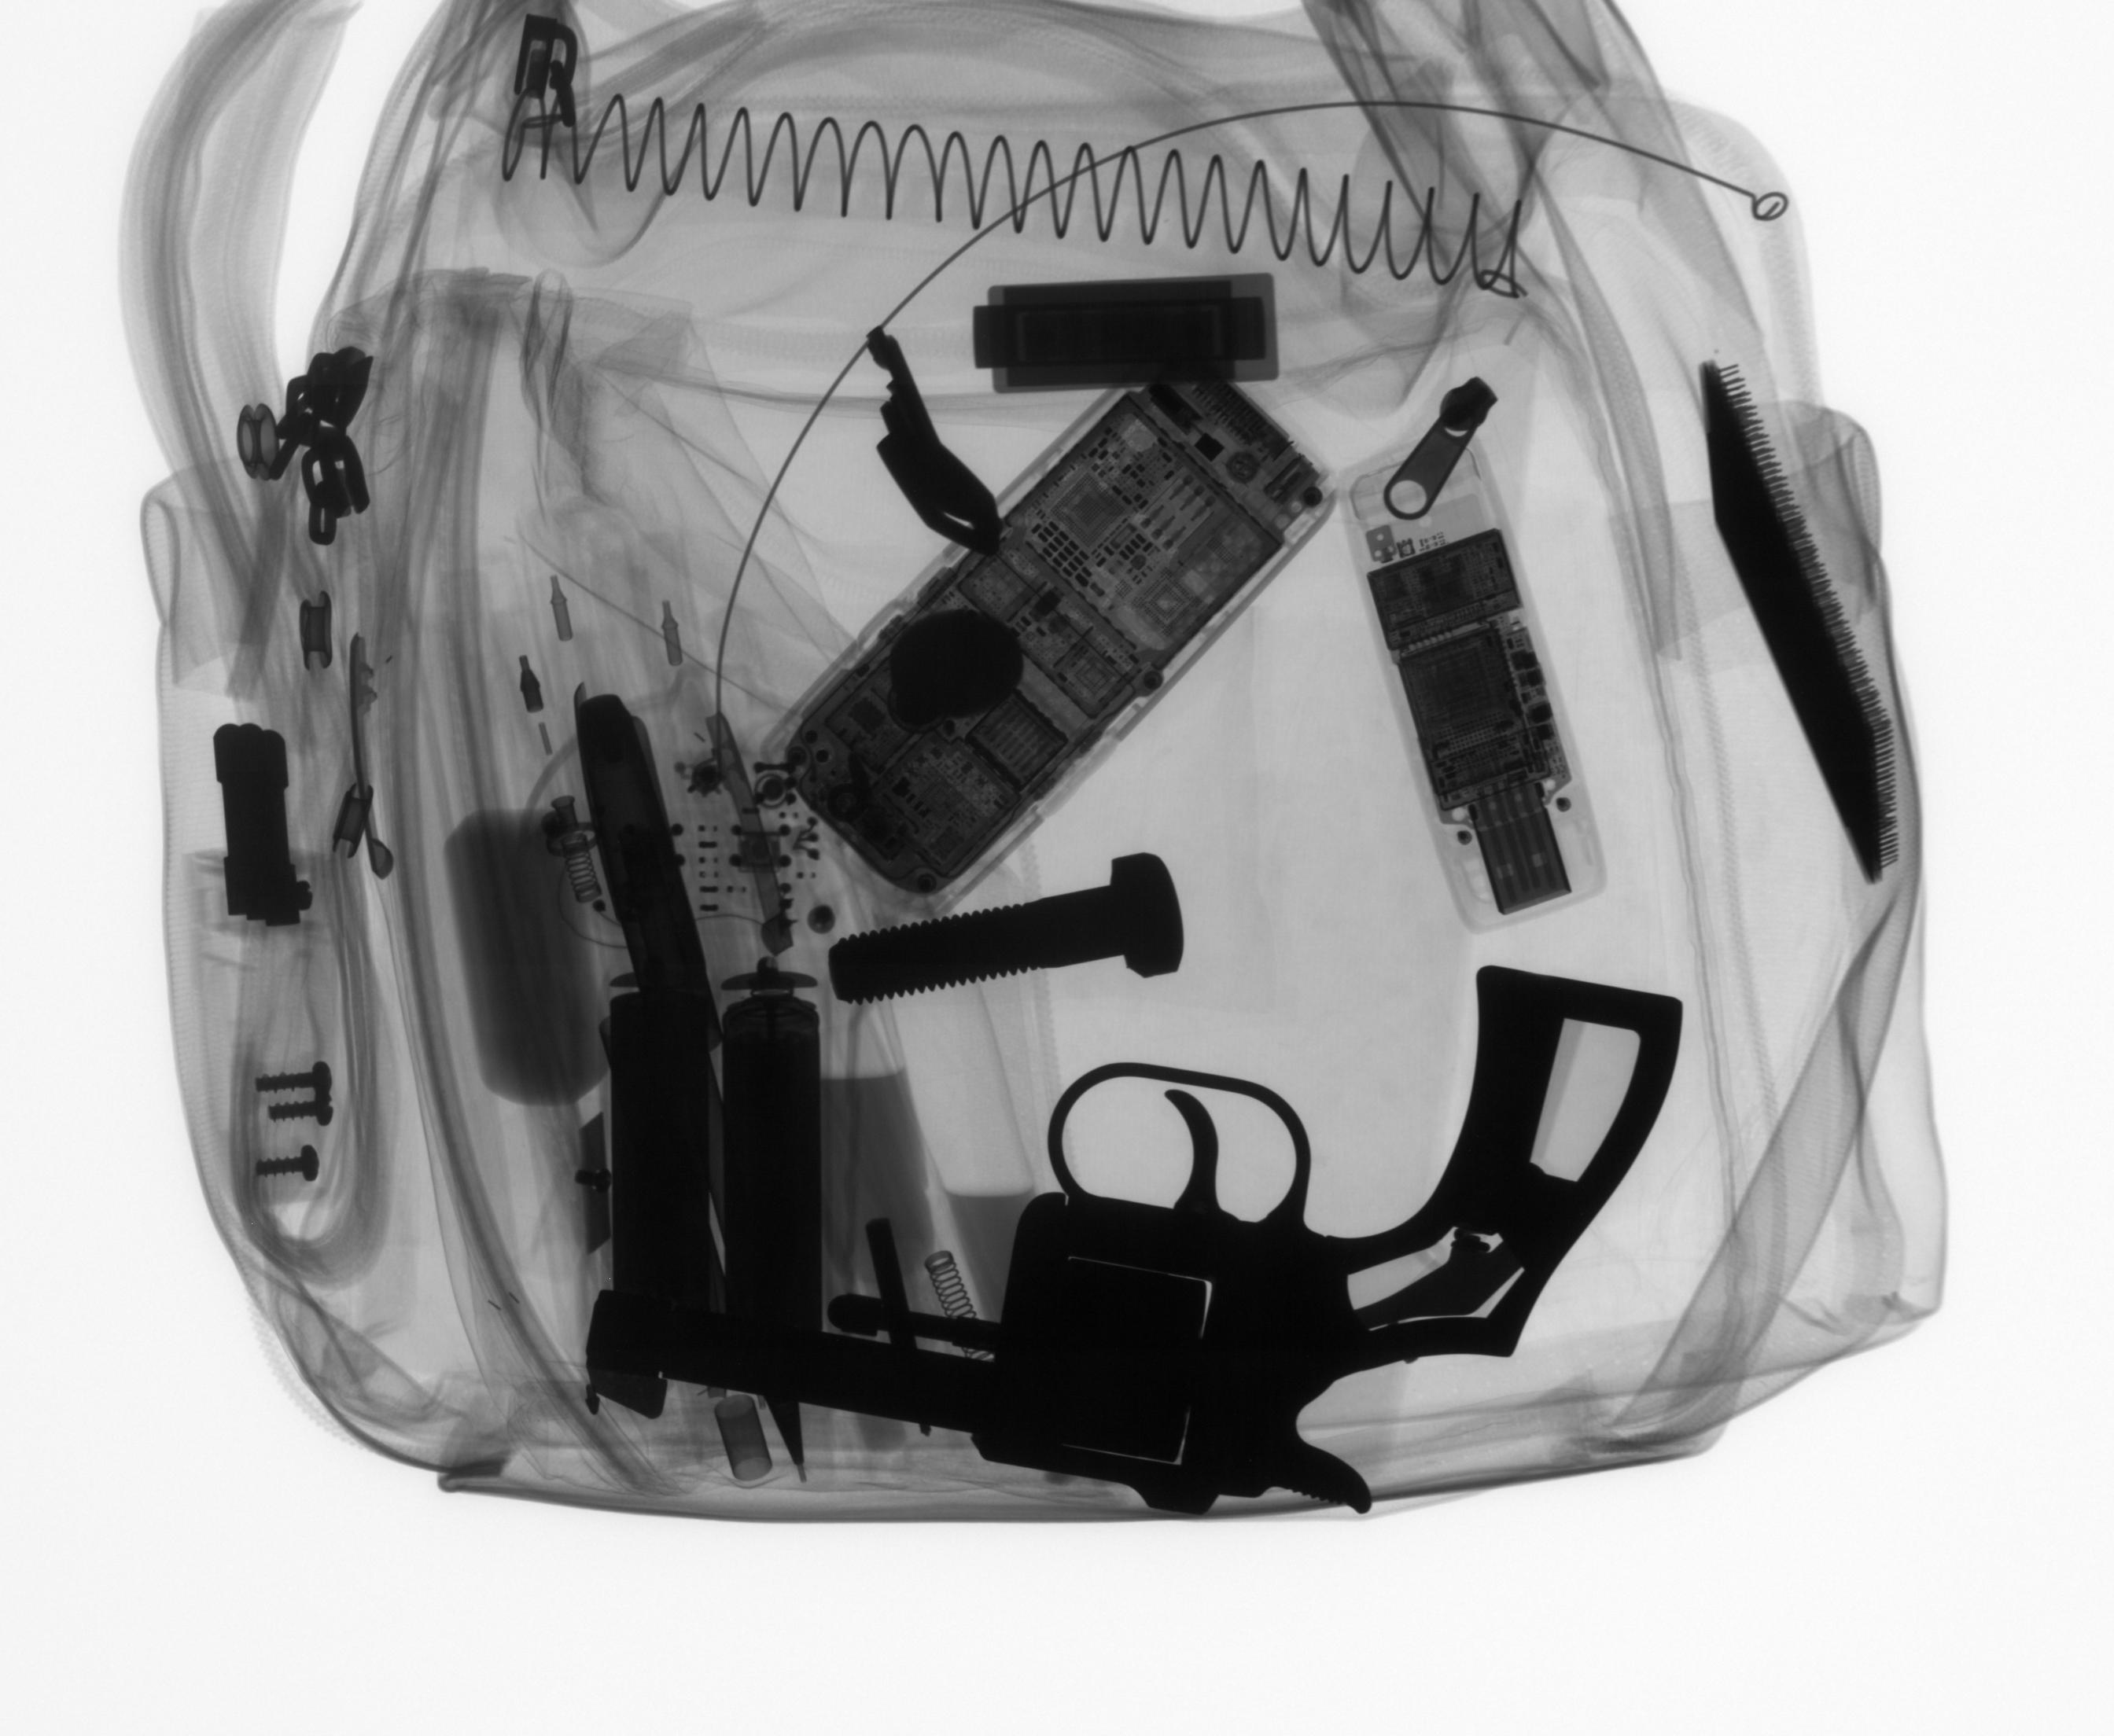Handgun: (573, 958, 1692, 1528)
